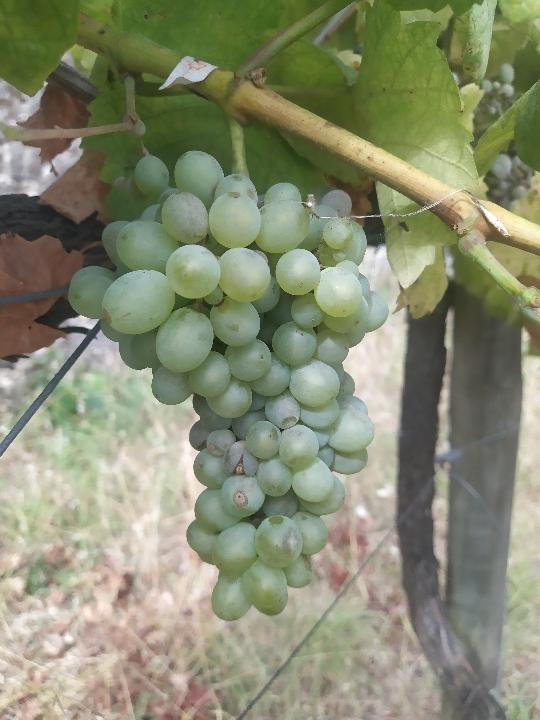grape: (65, 143, 394, 625)
